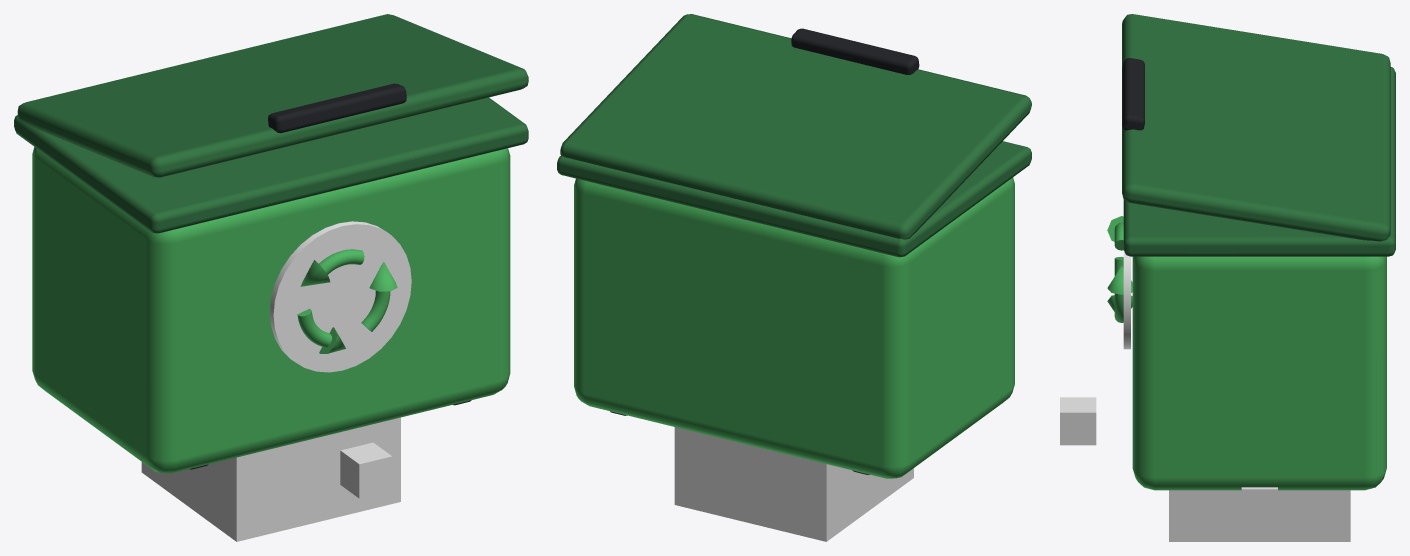
The model's file is TrashBin.fbx.
3 renders of one model, left to right at view 1: azimuth 30°, elevation 25°; view 2: azimuth 150°, elevation 25°; view 3: azimuth 270°, elevation 25°, orthographic. The views are drawn at different scales.
Visible parts, largest first — view 1: Body__Green, Body__GreenDark, Origin__Pivot, Body__White, Body__Black, Origin__AxisZ; view 2: Body__Green, Body__GreenDark, Origin__Pivot, Body__Black; view 3: Body__Green, Body__GreenDark, Origin__Pivot, Origin__AxisZ, Body__Black, Origin__AxisX, Body__White.
Boxes of the visible parts, x1=… form: Body__Green: x1=32, y1=147, x2=510, y2=473; Body__GreenDark: x1=14, y1=14, x2=528, y2=233; Origin__Pivot: x1=141, y1=417, x2=400, y2=541; Body__White: x1=269, y1=221, x2=411, y2=372; Body__Black: x1=268, y1=83, x2=406, y2=133; Origin__AxisZ: x1=340, y1=442, x2=392, y2=498; Body__Green: x1=574, y1=177, x2=1014, y2=478; Body__GreenDark: x1=557, y1=14, x2=1031, y2=257; Origin__Pivot: x1=674, y1=427, x2=913, y2=541; Body__Black: x1=791, y1=28, x2=919, y2=74; Body__Green: x1=1107, y1=216, x2=1386, y2=490; Body__GreenDark: x1=1122, y1=14, x2=1395, y2=256; Origin__Pivot: x1=1169, y1=490, x2=1350, y2=541; Origin__AxisZ: x1=1060, y1=397, x2=1096, y2=445; Body__Black: x1=1122, y1=58, x2=1144, y2=130; Origin__AxisX: x1=1241, y1=487, x2=1277, y2=522; Body__White: x1=1123, y1=250, x2=1130, y2=349.
Bounding box in the file's own units: 2.3 × 2.54 × 1.85.
